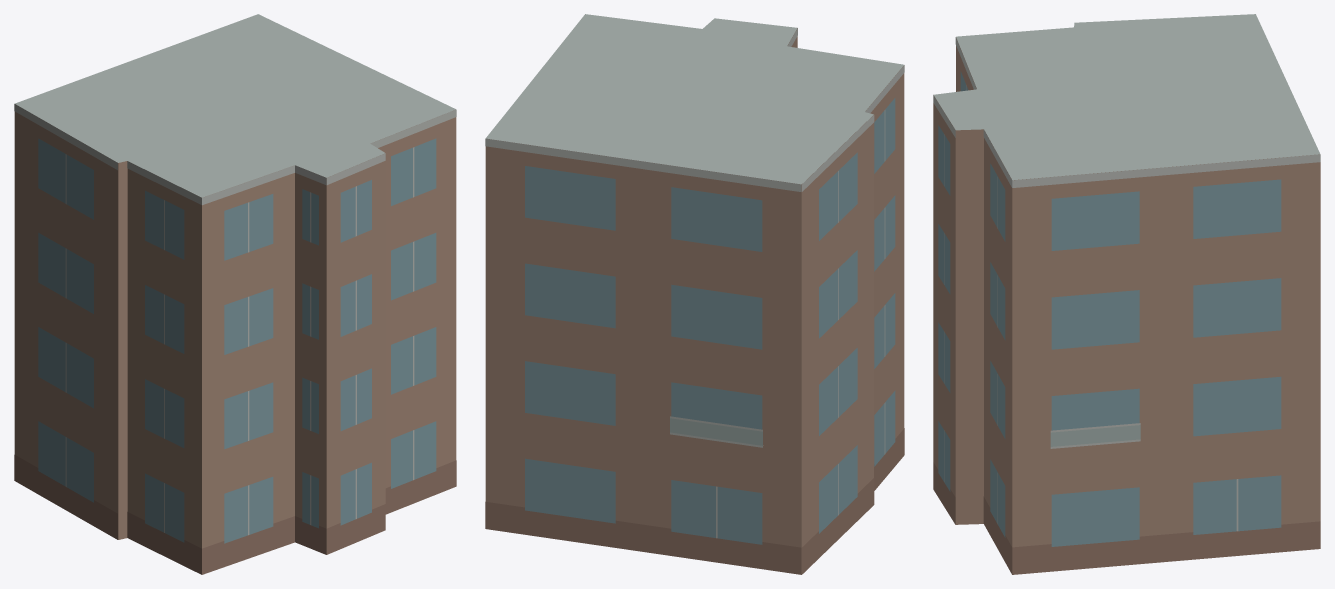
File: survey-upis-32665997.glb
3 renders of one model, left to right at view 1: azimuth 30°, elevation 25°; view 2: azimuth 150°, elevation 25°; view 3: azimuth 270°, elevation 25°, orthographic. The views are drawn at different scales.
Parts seen in each view (by area): view 1: survey-upis-32665997.tmp; view 2: survey-upis-32665997.tmp; view 3: survey-upis-32665997.tmp.
Part boxes in pixels (bbox=[...]): survey-upis-32665997.tmp: bbox=[14, 14, 456, 574]; survey-upis-32665997.tmp: bbox=[485, 14, 904, 574]; survey-upis-32665997.tmp: bbox=[933, 14, 1320, 574].
Size of the model in its own units: 11.03 by 12.2 by 10.86.
